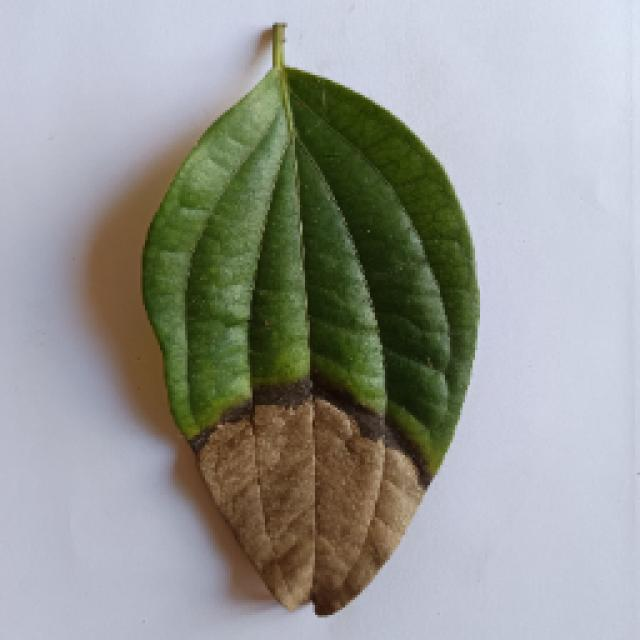footrot: (105, 33, 537, 615)
